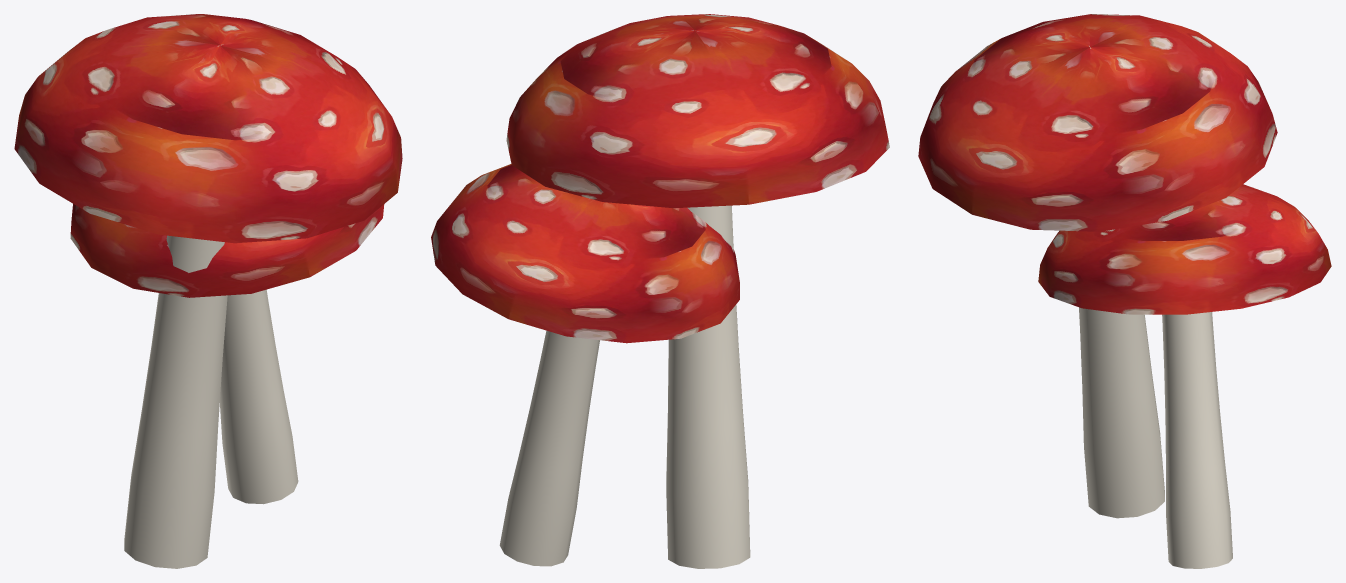
Rendered from fly_agaric1_s31707.gltf.
The picture shows the model from 3 angles, left to right: view 1: azimuth 30°, elevation 25°; view 2: azimuth 150°, elevation 25°; view 3: azimuth 270°, elevation 25°; orthographic projection. The views are drawn at different scales.
Parts seen in each view (by area): view 1: fly_agaric1_s31707_cap_LOD0, fly_agaric1_s31707_stem_LOD0; view 2: fly_agaric1_s31707_cap_LOD0, fly_agaric1_s31707_stem_LOD0; view 3: fly_agaric1_s31707_cap_LOD0, fly_agaric1_s31707_stem_LOD0.
Part boxes in pixels (x1,y1,x2,y2): fly_agaric1_s31707_cap_LOD0: (14, 14, 402, 297); fly_agaric1_s31707_stem_LOD0: (124, 235, 298, 568); fly_agaric1_s31707_cap_LOD0: (431, 14, 889, 343); fly_agaric1_s31707_stem_LOD0: (499, 205, 750, 568); fly_agaric1_s31707_cap_LOD0: (918, 14, 1331, 314); fly_agaric1_s31707_stem_LOD0: (1079, 307, 1232, 568).
Size of what is drawn, in the model's own units: 0.1954 by 0.2573 by 0.204.
3 materials, 1 textured.
